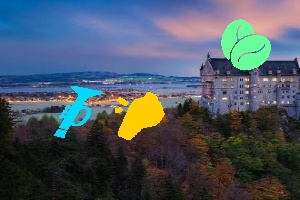两网球: (221, 20, 270, 68)
喇叭: (55, 86, 102, 139)
玩具头: (114, 91, 166, 138)
